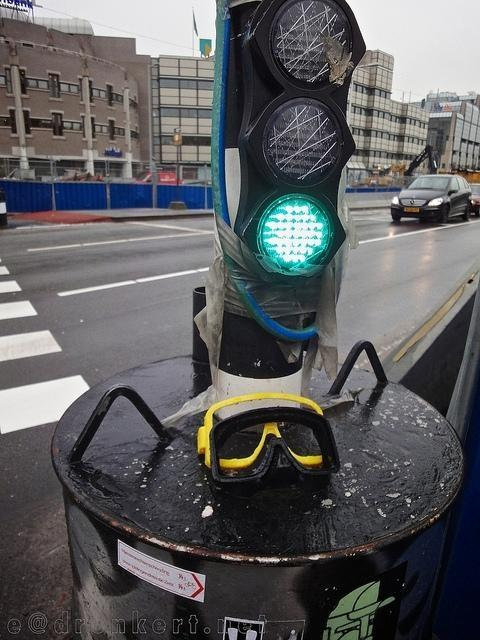car: (390, 175, 472, 223), (123, 170, 184, 184), (469, 183, 480, 217)
